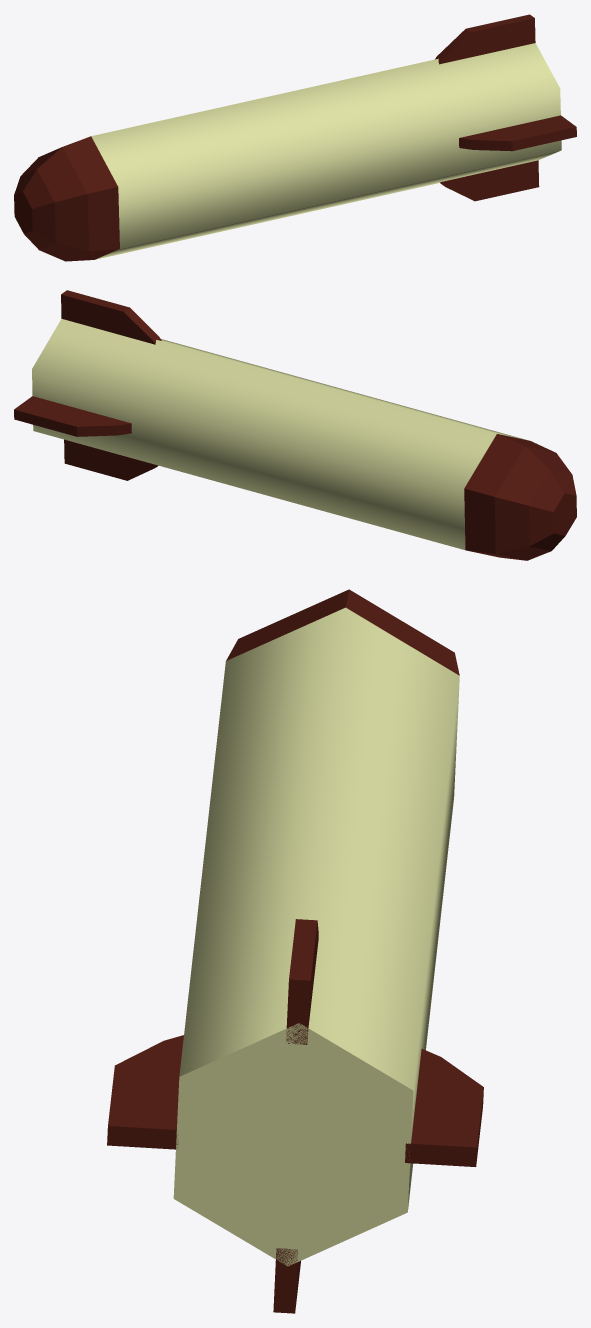
Rendered from Bomb_2.FBX.
3 renders of one model, top to bottom at view 1: azimuth 30°, elevation 25°; view 2: azimuth 150°, elevation 25°; view 3: azimuth 270°, elevation 25°, orthographic. The views are drawn at different scales.
Visible parts, largest first — view 1: Cylinder151, Bomb_2; view 2: Cylinder151, Bomb_2; view 3: Cylinder151, Bomb_2.
Part boxes in pixels (<box>): Cylinder151: <box>91,43,561,259</box>; Bomb_2: <box>14,14,576,261</box>; Cylinder151: <box>32,318,528,549</box>; Bomb_2: <box>14,290,576,560</box>; Cylinder151: <box>173,607,459,1266</box>; Bomb_2: <box>107,589,483,1313</box>.
Size of the model in its own units: 5.1 by 1.62 by 1.66.
